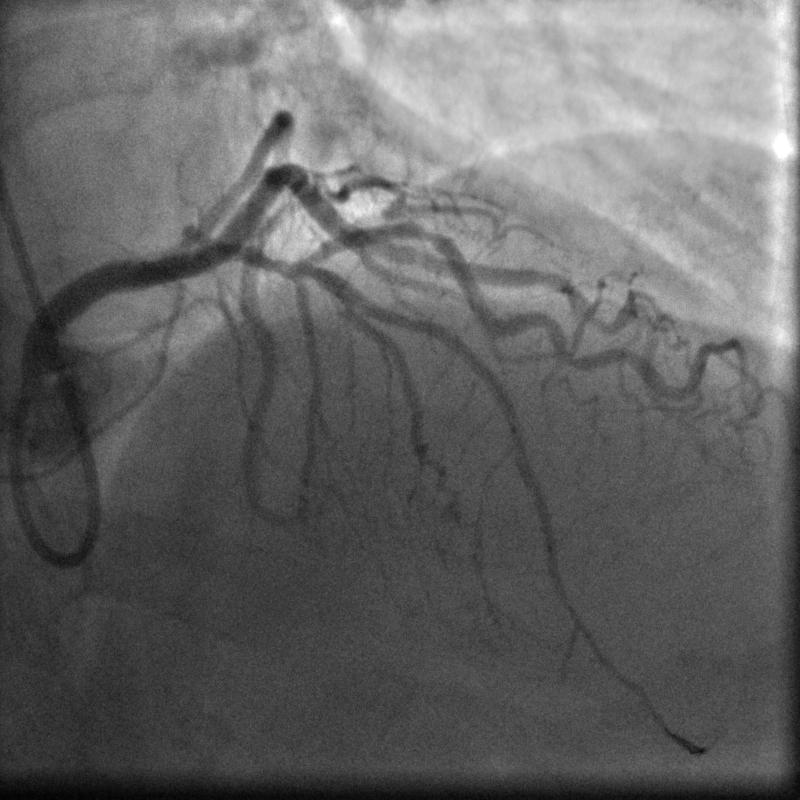Stenosis: (406, 215, 448, 253)
